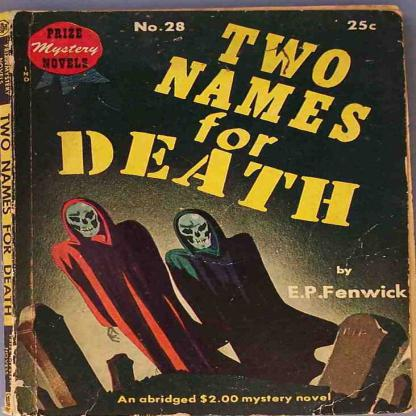book: (9, 0, 412, 416)
